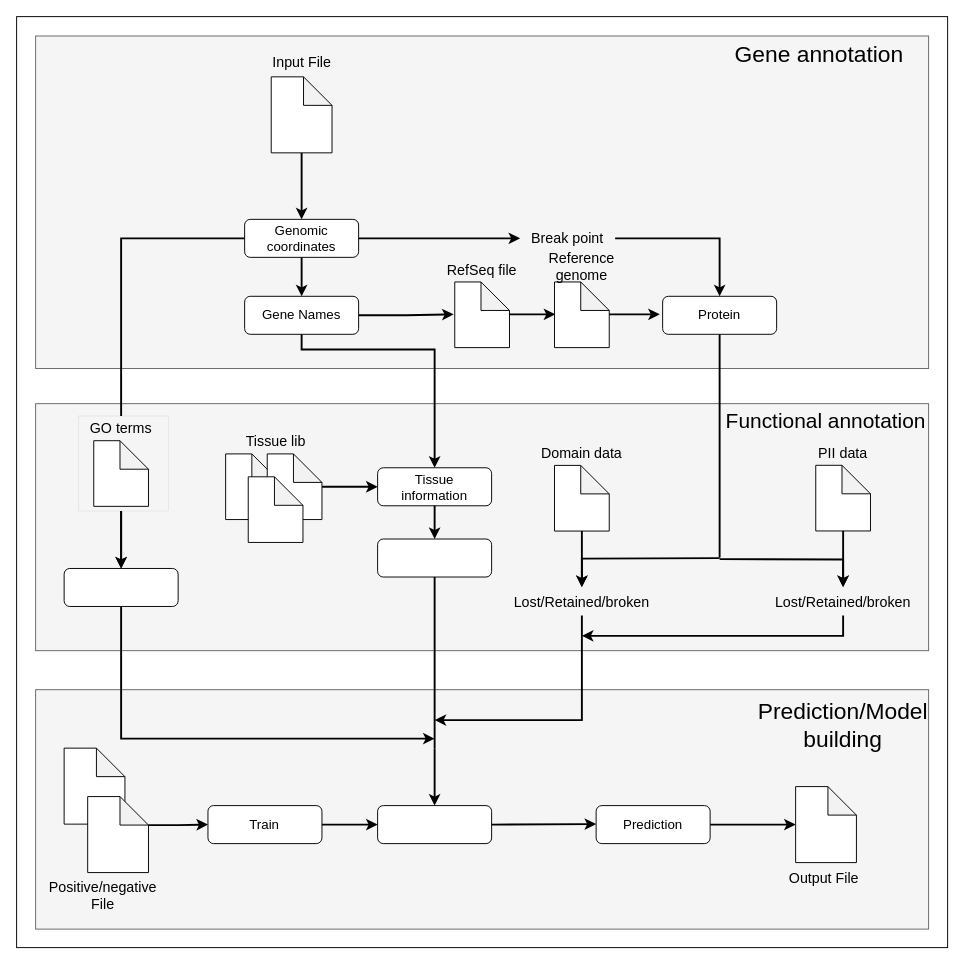
The diagram is 964 pixels wide and 964 high, and some of its shapes have lost their labels. The centre of each missing label's shape, as x and y in pixels:
GO groups: (120,587)
Models: (434,824)
Prom/Exp/Utr data: (434,557)
